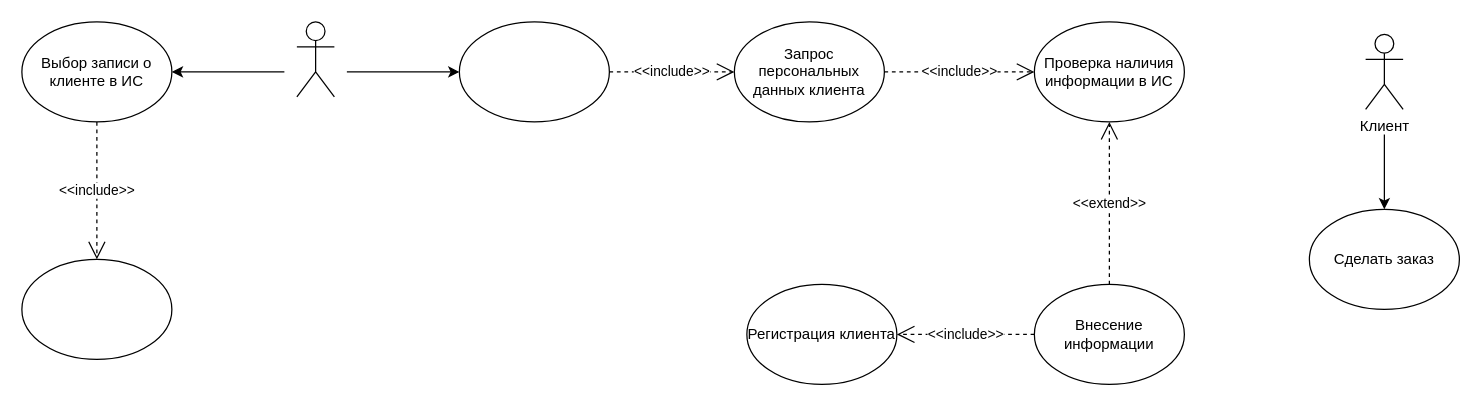
Image size: 1481x406. Some labels were removed from this diagram. Here are the shapes that lost their labels. From the top down, the centre of each, then its label:
At (x=315, y=59): "Сотрудник".
At (x=533, y=71): "Оформление заказа".
At (x=96, y=308): "Выбер записи о клиене в ИС".
